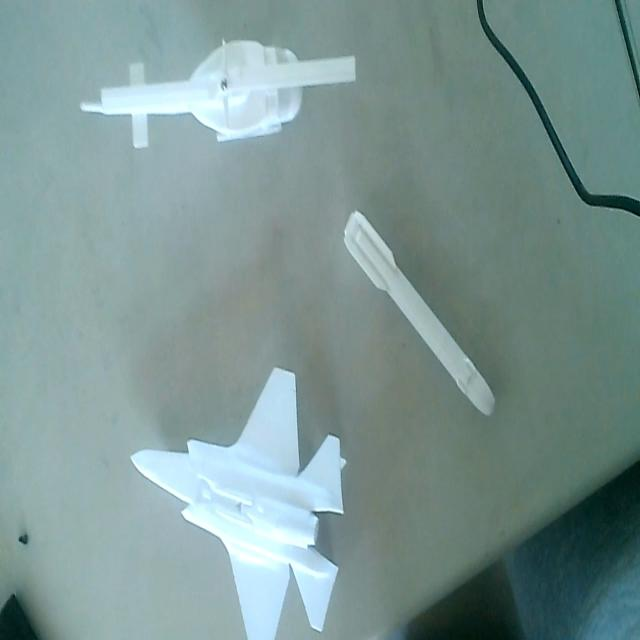Helicopter: (79, 34, 357, 152)
Jet: (132, 363, 347, 640)
Rocket: (340, 206, 498, 420)
